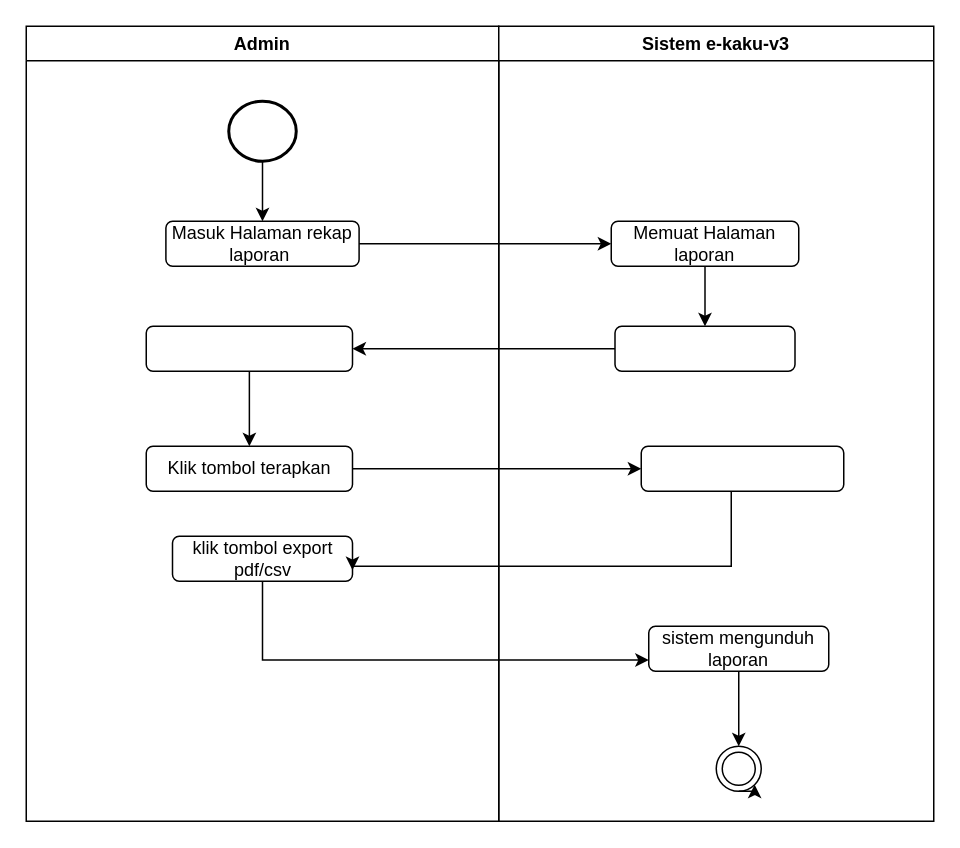
Some shapes in this 960 by 848 pixel diagram are drawn without their labels. The centre of each missing label's shape, as x and y in pixels:
Memilih filter status dan filter periode: point 248,348
menampilkan halaman laporan terfilter: point 742,468
menampilkan halamn laporan: point 704,348
